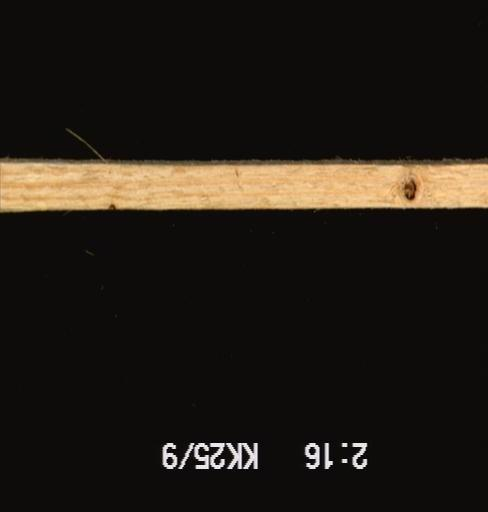dry_knot: (399, 175, 420, 203)
edge_knot: (100, 198, 121, 209)
